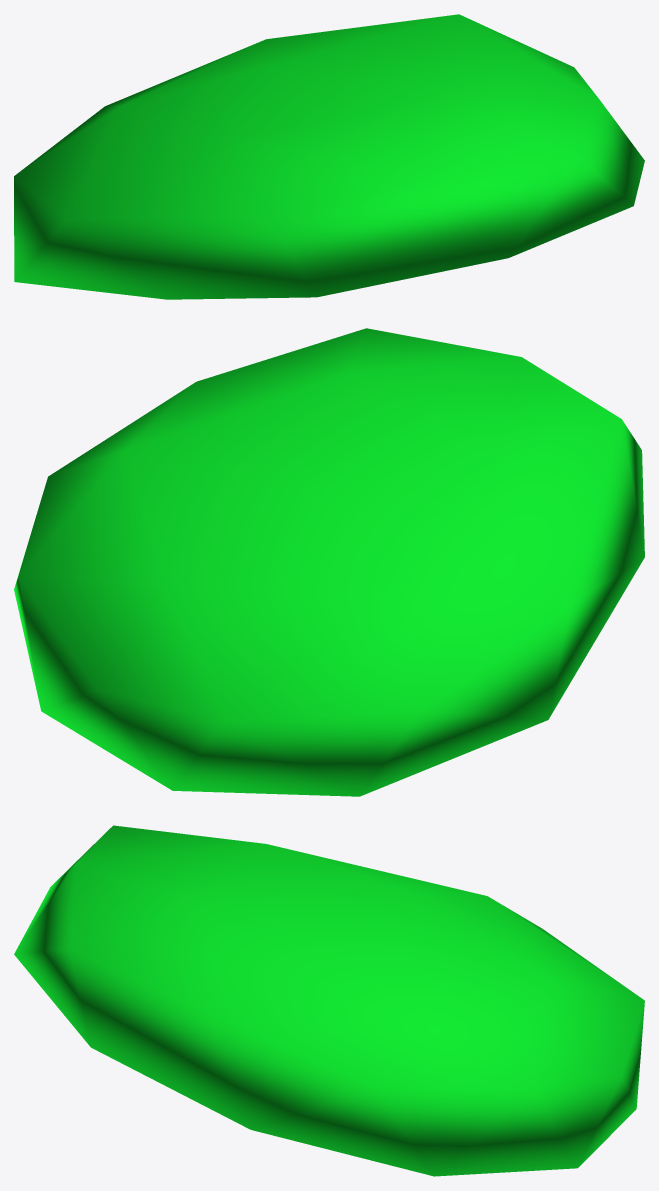
The model's file is hongoPeq0-1.fbx.
3 renders of one model, top to bottom at view 1: azimuth 30°, elevation 25°; view 2: azimuth 150°, elevation 25°; view 3: azimuth 270°, elevation 25°, orthographic. The views are drawn at different scales.
Parts seen in each view (by area): view 1: Esfera geodésica.001; view 2: Esfera geodésica.001; view 3: Esfera geodésica.001.
Boxes of the visible parts, <box> form: Esfera geodésica.001: <box>14,14,644,299</box>; Esfera geodésica.001: <box>14,328,644,796</box>; Esfera geodésica.001: <box>14,825,644,1176</box>.
Size of the model in its own units: 286 by 125 by 311.
